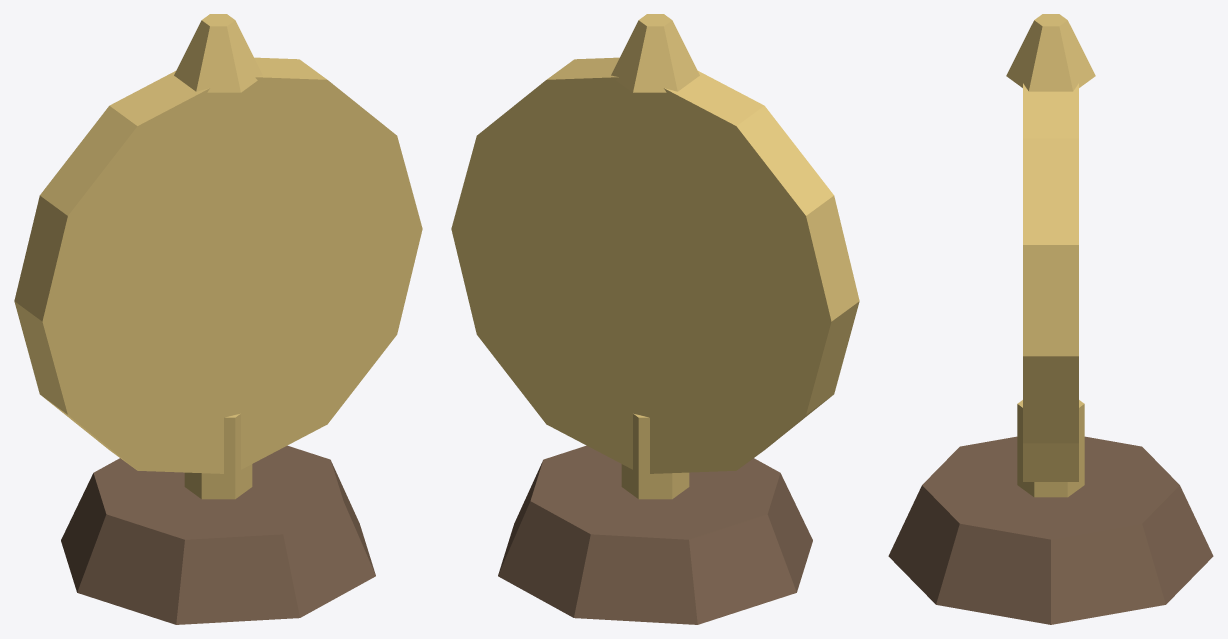
Rendered from LP_Item_V04.fbx.
3 renders of one model, left to right at view 1: azimuth 30°, elevation 25°; view 2: azimuth 150°, elevation 25°; view 3: azimuth 270°, elevation 25°, orthographic.
Parts seen in each view (by area): view 1: ArtifactMesh; view 2: ArtifactMesh; view 3: ArtifactMesh.
Boxes of the visible parts, box(x1,y1,x2,y2) form: ArtifactMesh: box(14, 14, 422, 624); ArtifactMesh: box(451, 14, 859, 624); ArtifactMesh: box(888, 14, 1213, 624).
Size of the model in its own units: 0.156 by 0.211 by 0.116.
